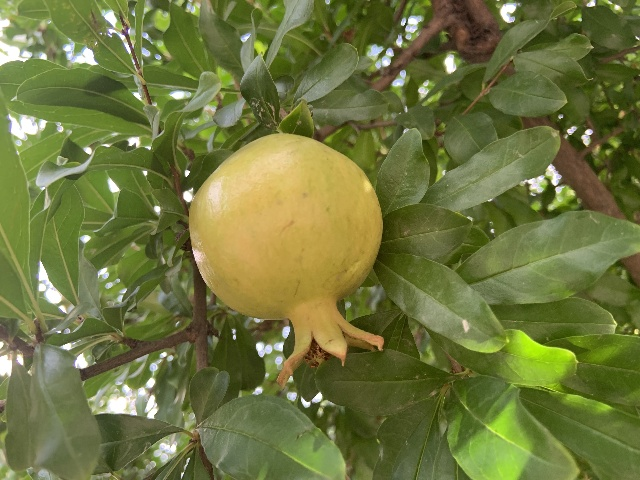mid-growth: (188, 133, 386, 388)
